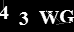3: (18, 11, 29, 26)
4: (1, 6, 10, 19)
G: (60, 9, 73, 24)
W: (38, 10, 59, 25)
